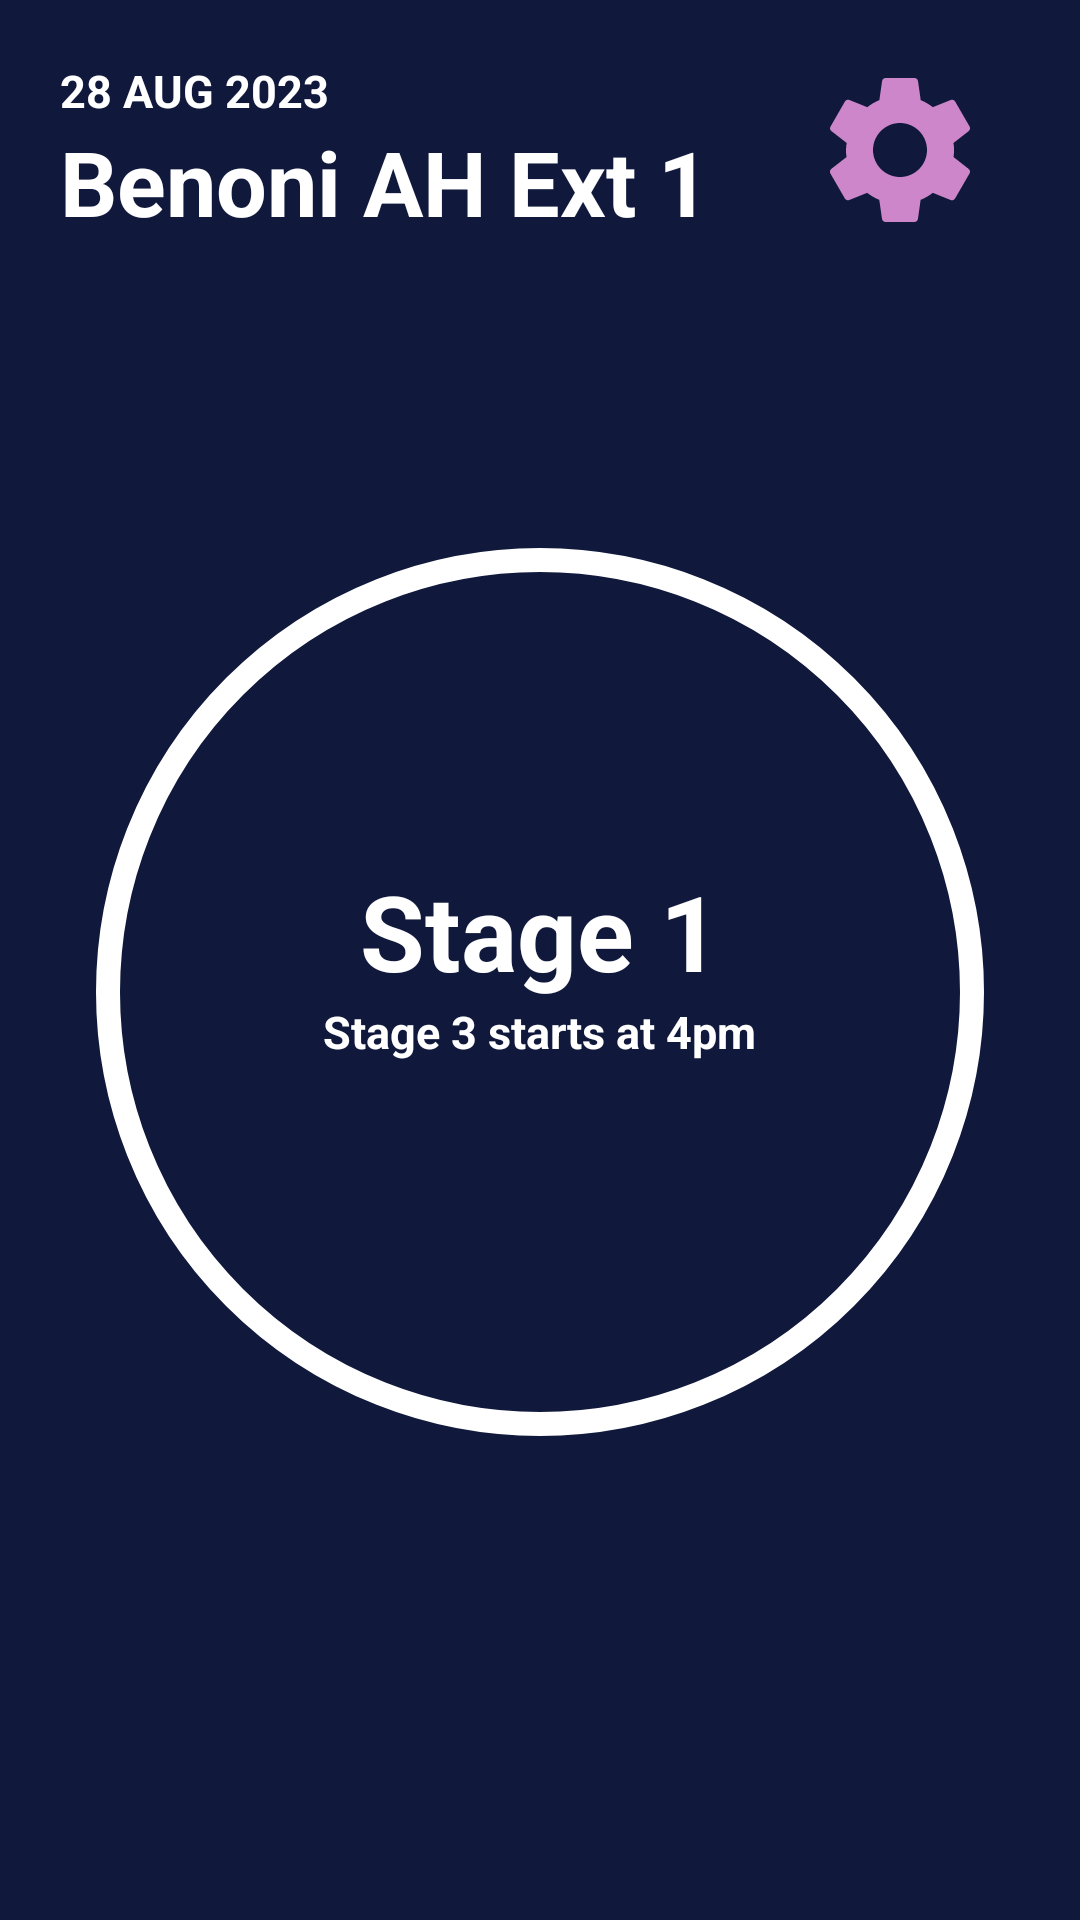

Named icons in this screenshot (1080*1920) and their centers, point (x, y):
Settings Icon: point (900, 150)
